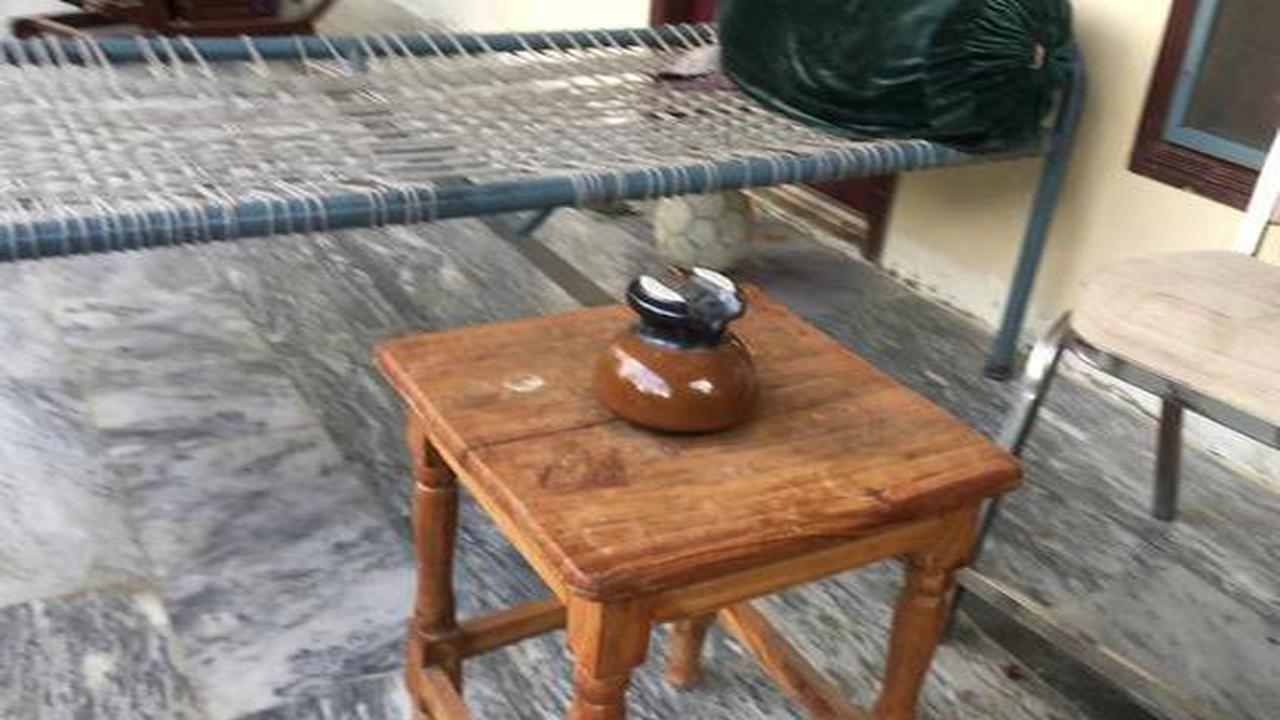insulator_pin: (570, 243, 788, 456)
